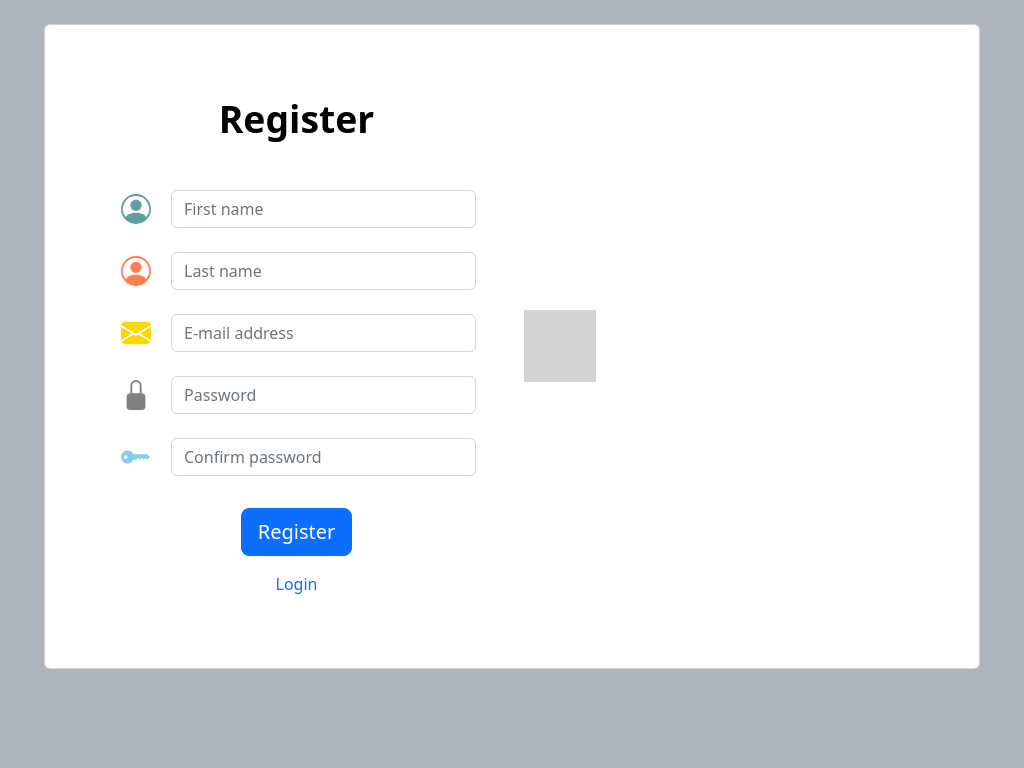
Test: After submitting a valid form on Register component › shows error alert if response is 401
Type "Tom" into the field with placeholder "First name" at (324, 209), box x1=171 y1=190 x2=476 y2=228
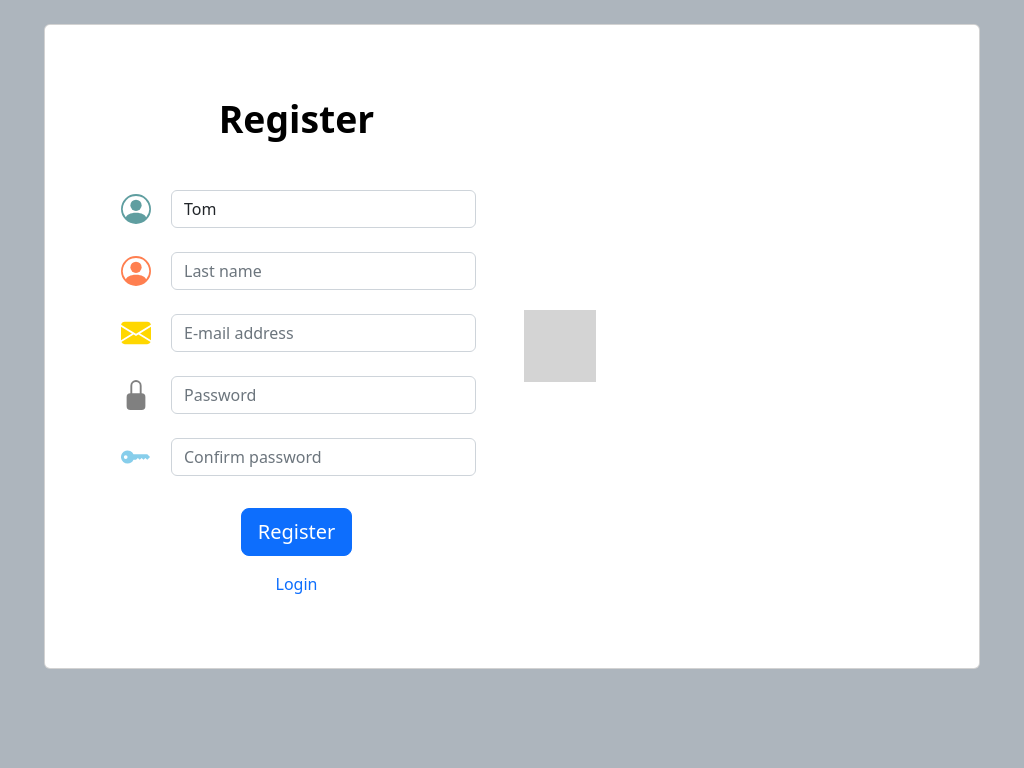
Type "Test" into the field with placeholder "Last name" at (324, 271), box x1=171 y1=252 x2=476 y2=290
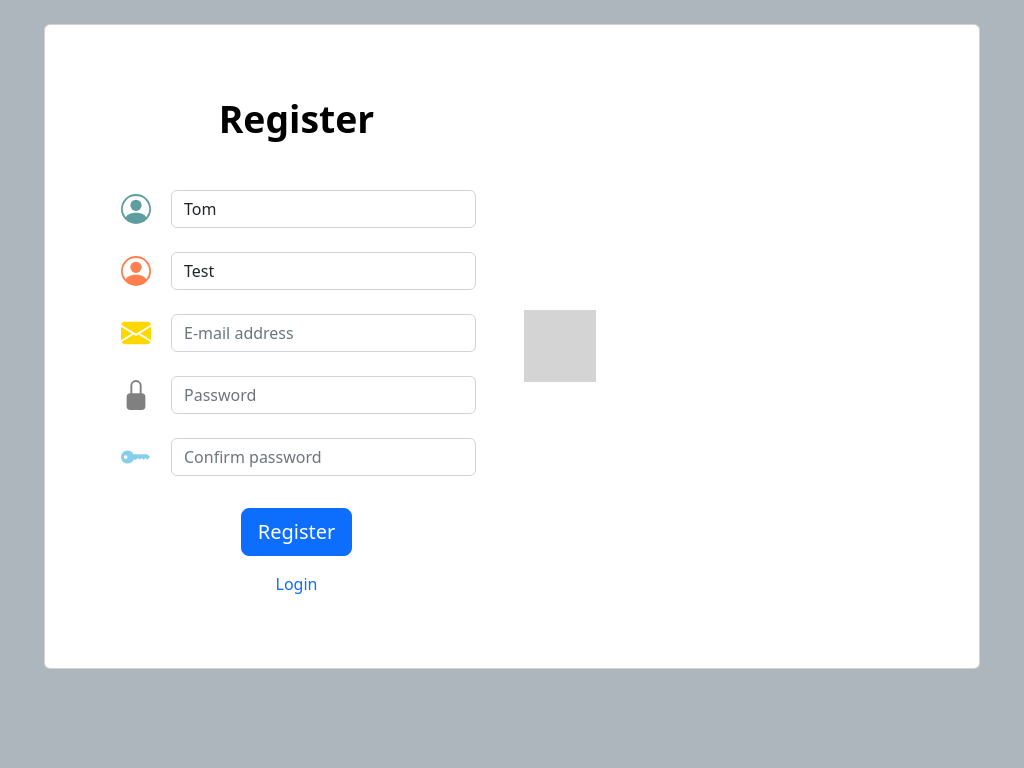
Type "tom-test@tmail.com" into the field with placeholder "E-mail address" at (324, 333), box x1=171 y1=314 x2=476 y2=352
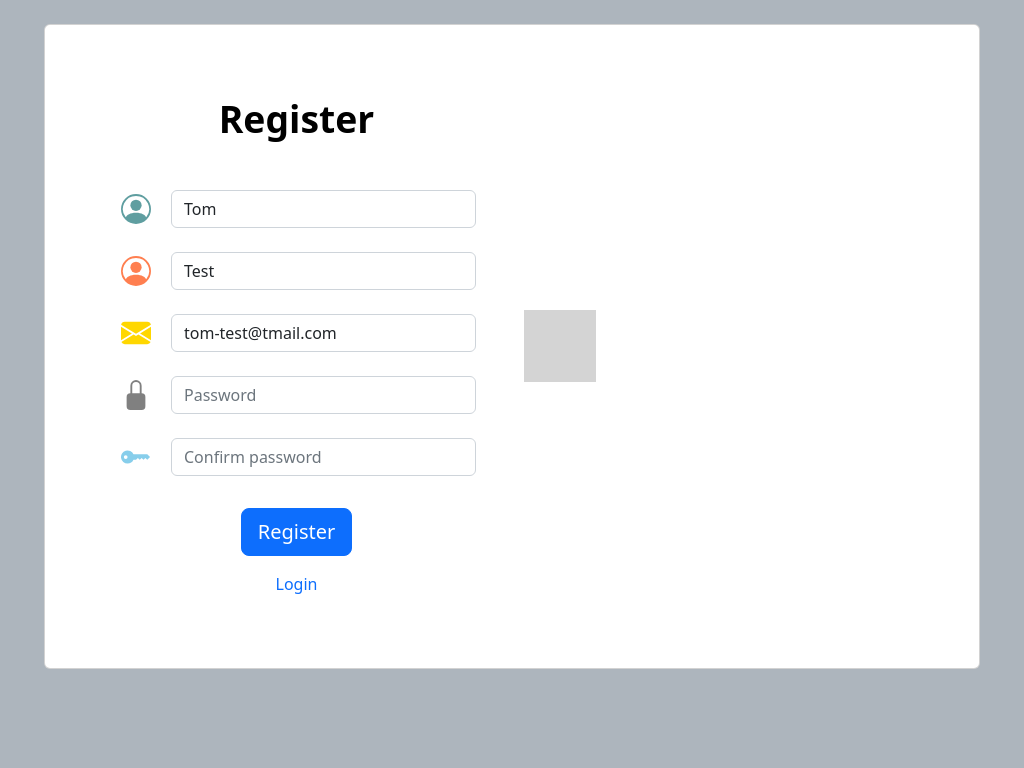
Type "1212qwQW" into the password field with placeholder "Password" at (324, 395), box x1=171 y1=376 x2=476 y2=414
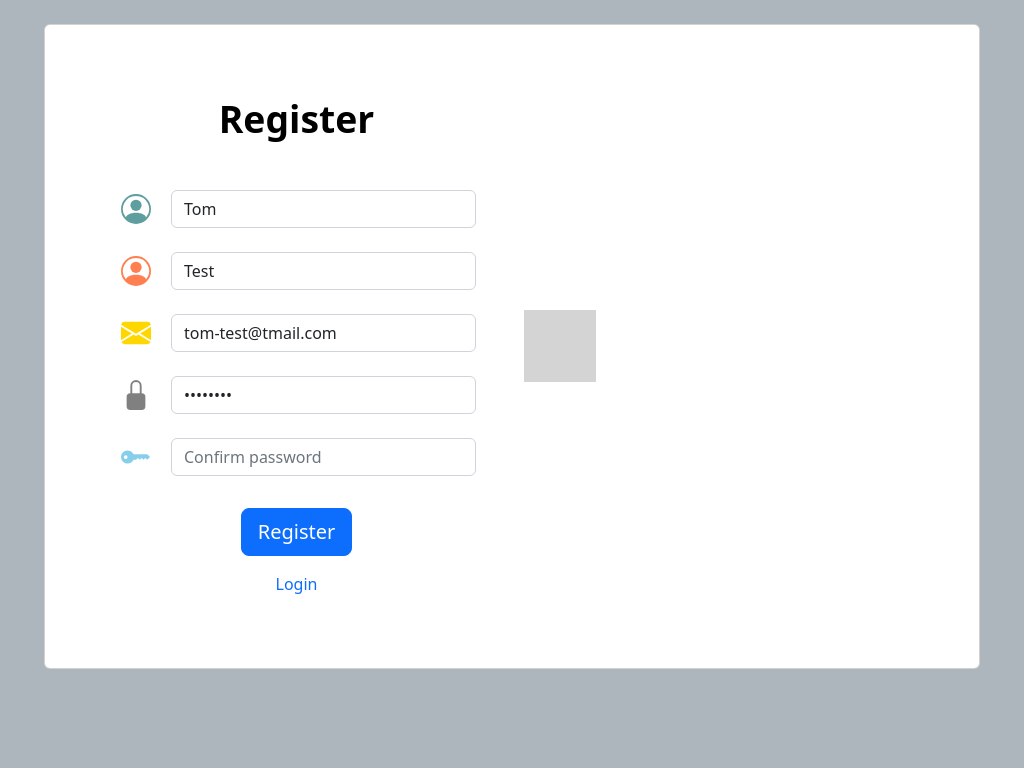
Type "1212qwQW" into the password field with placeholder "Confirm password" at (324, 457), box x1=171 y1=438 x2=476 y2=476
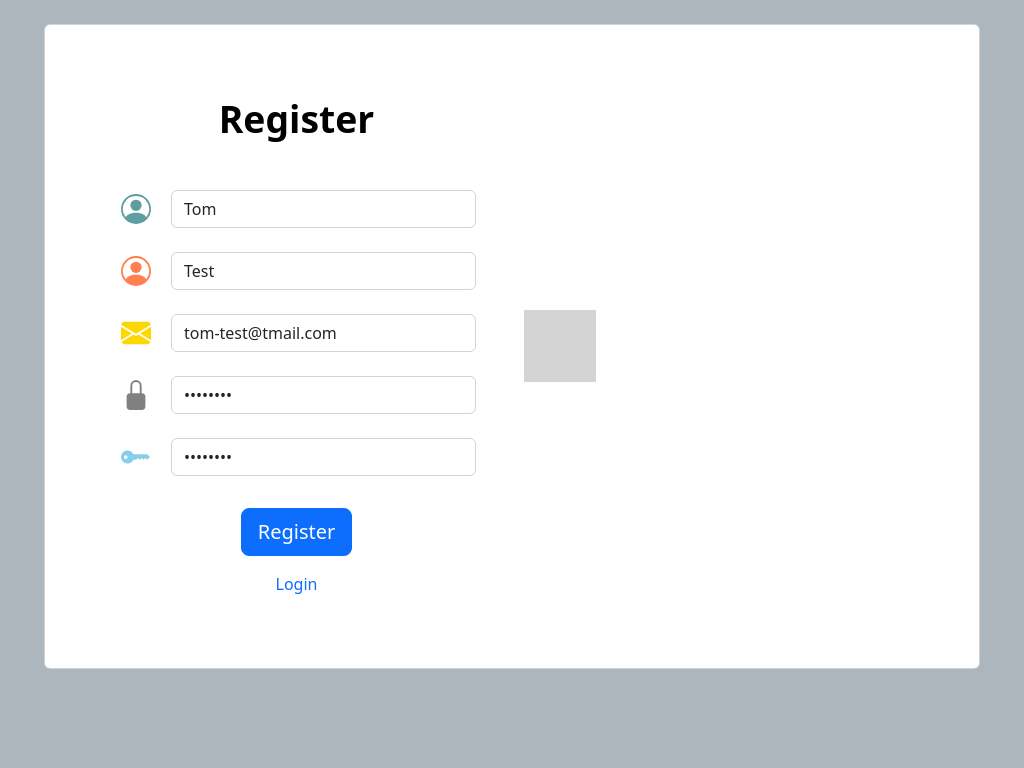
Click the button with test id "submit" at (296, 532), box x1=241 y1=508 x2=352 y2=556
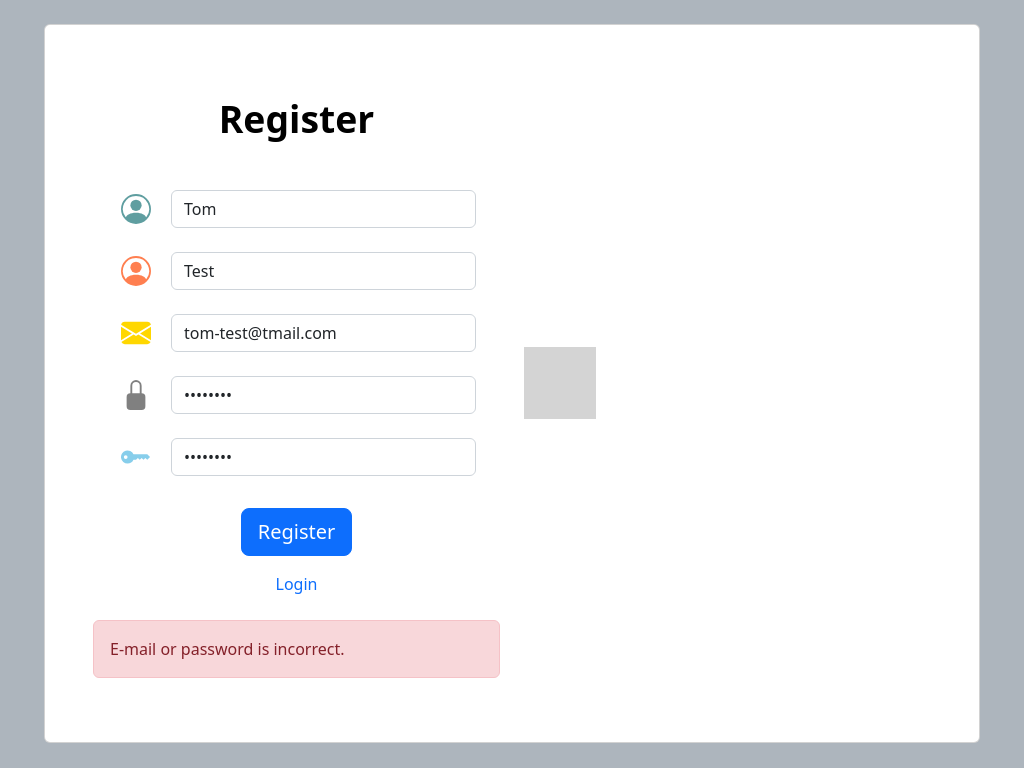
Check: the text "E-mail or password is incorrect." is shown, box x1=93 y1=620 x2=500 y2=678
